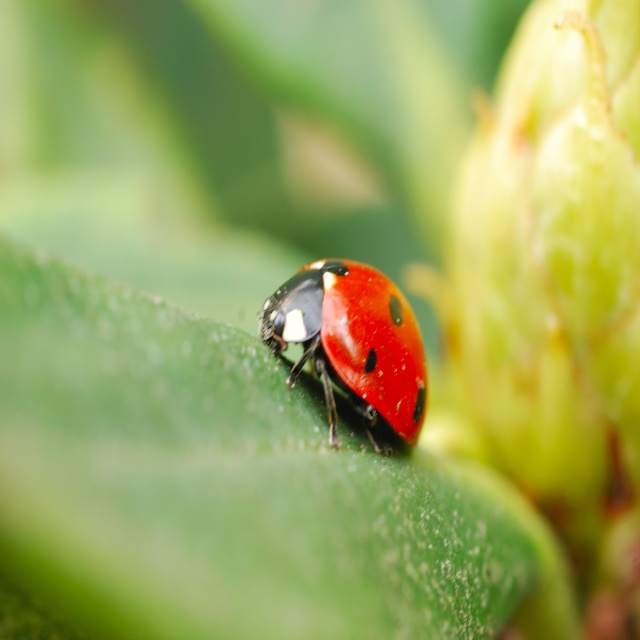Ladybug: (261, 255, 429, 448)
